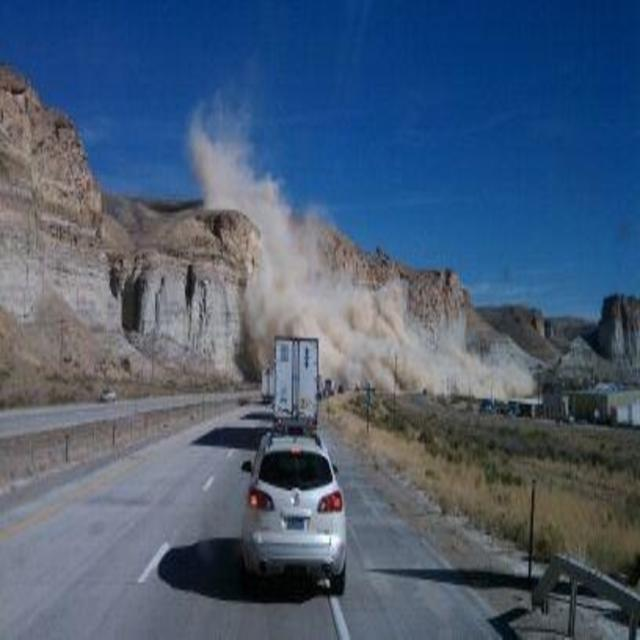bus: (274, 336, 322, 436), (261, 366, 273, 408)
car: (238, 433, 346, 598)
